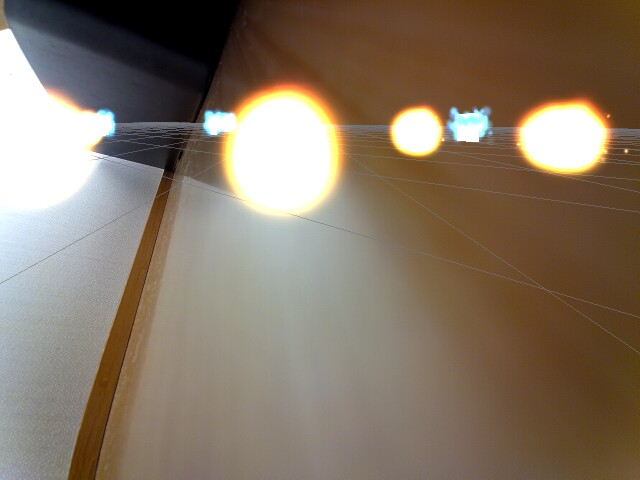firebig: (227, 87, 349, 225)
